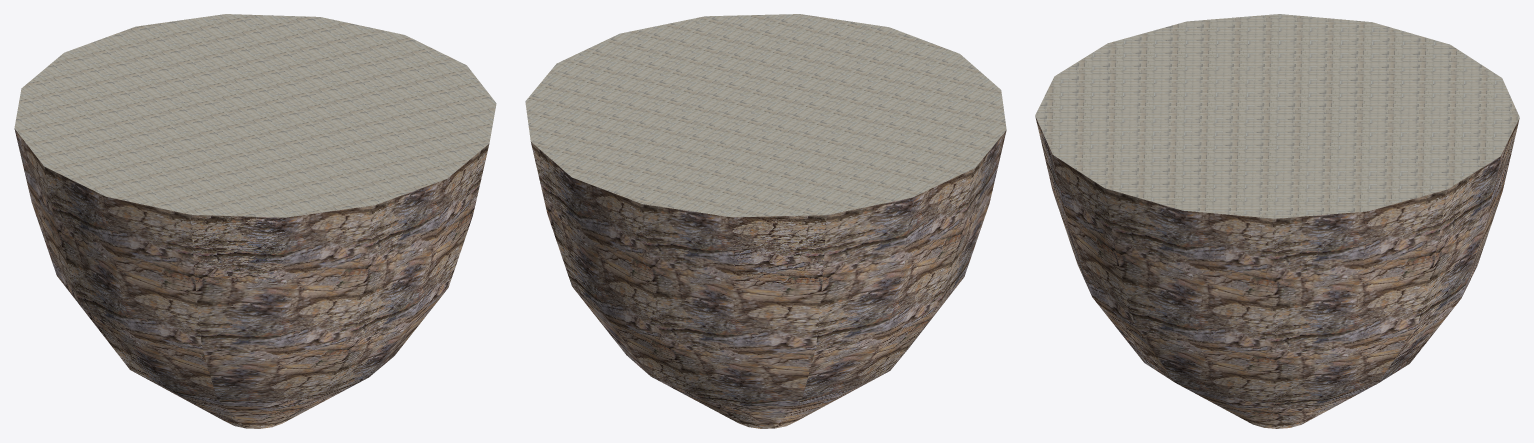
File: hold1.FBX
3 views of the same model, side by side, from view 1: azimuth 30°, elevation 25°; view 2: azimuth 150°, elevation 25°; view 3: azimuth 270°, elevation 25° (orthographic).
Parts seen in each view (by area): view 1: Cone001; view 2: Cone001; view 3: Cone001.
Boxes of the visible parts, x1=… form: Cone001: x1=14, y1=14, x2=496, y2=428; Cone001: x1=525, y1=14, x2=1006, y2=428; Cone001: x1=1035, y1=14, x2=1519, y2=428.
Size of the model in its own units: 4.07e+07 by 2.76e+07 by 4.07e+07.
2 materials, 2 textured.
